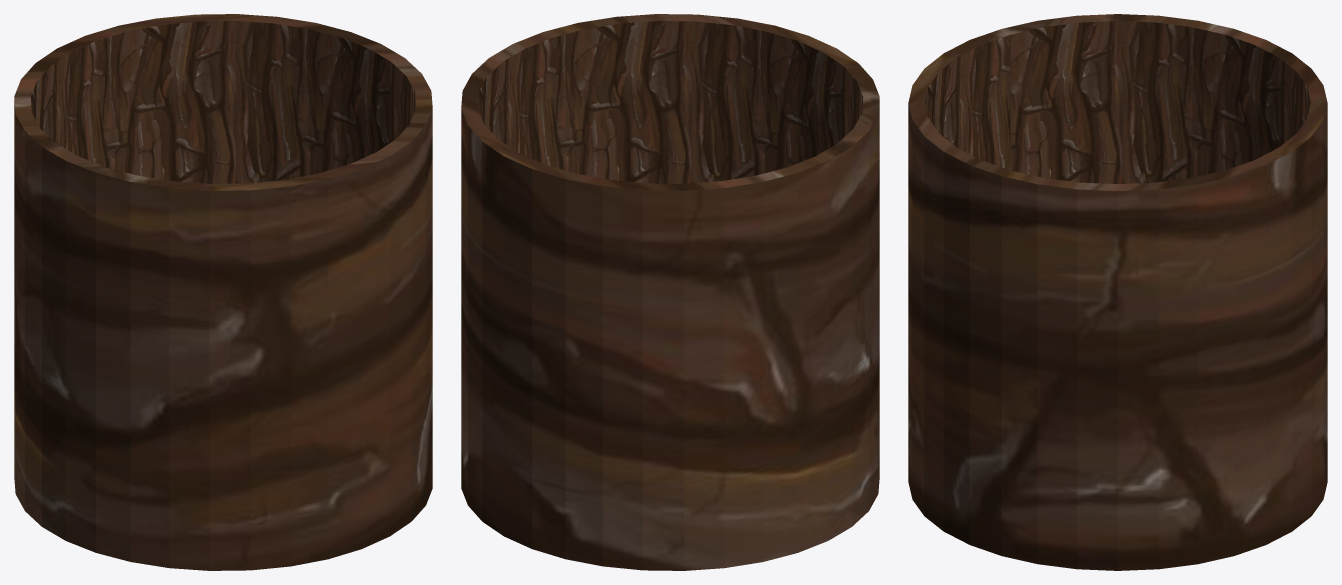
File: boss_level.fbx
The picture shows the model from 3 angles, left to right: view 1: azimuth 30°, elevation 25°; view 2: azimuth 150°, elevation 25°; view 3: azimuth 270°, elevation 25°; orthographic projection.
Parts seen in each view (by area): view 1: Cylinder; view 2: Cylinder; view 3: Cylinder.
Part boxes in pixels (bbox=[...]): Cylinder: bbox=[14, 14, 432, 570]; Cylinder: bbox=[461, 14, 879, 570]; Cylinder: bbox=[908, 14, 1327, 570].
Size of the model in its own units: 10000 by 10000 by 10000.
